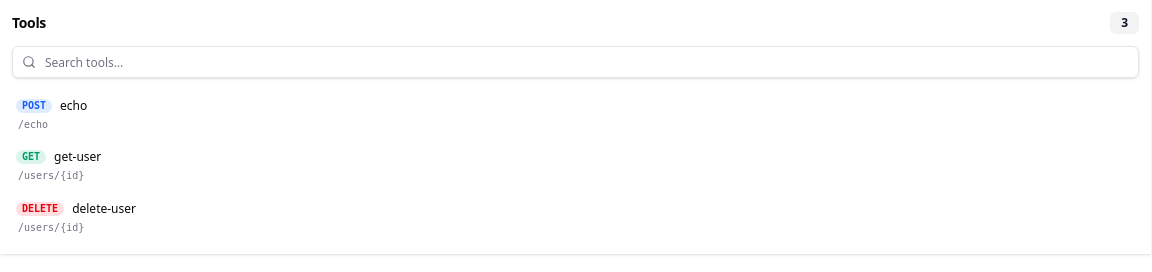
Test: Playground — ToolBrowser › filters tools by search query
Type "delete" into the field with placeholder "Search tools…". click: x=576, y=62
box: [12,46,1139,78]
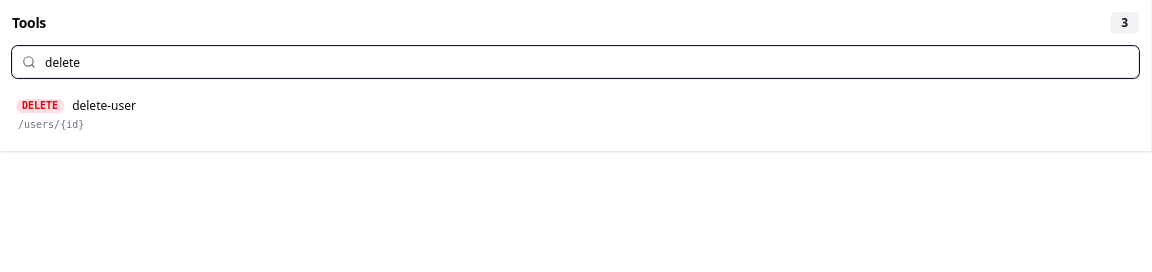
Expected: the text "delete-user" is shown, [72,98,136,114]
Expected: the option "echo" is gone
Expected: the option "get-user" is gone
